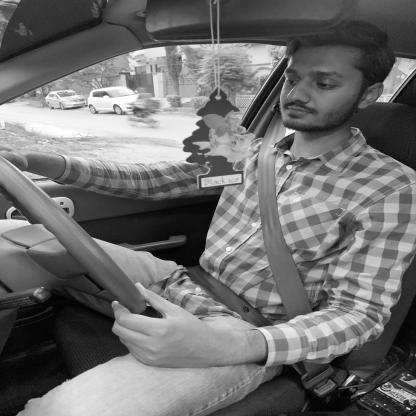seatbelt: (228, 20, 393, 276)
